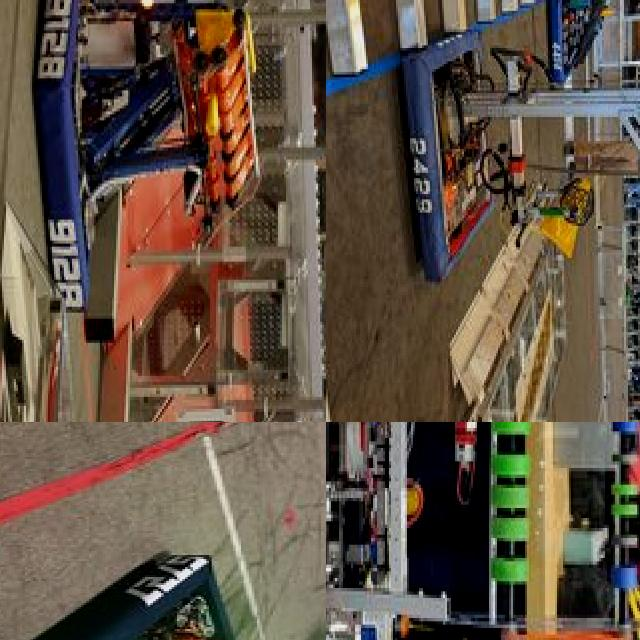FRC-Robots: (392, 0, 640, 422), (29, 0, 326, 332), (326, 422, 640, 640), (0, 509, 326, 640), (542, 0, 638, 90)
